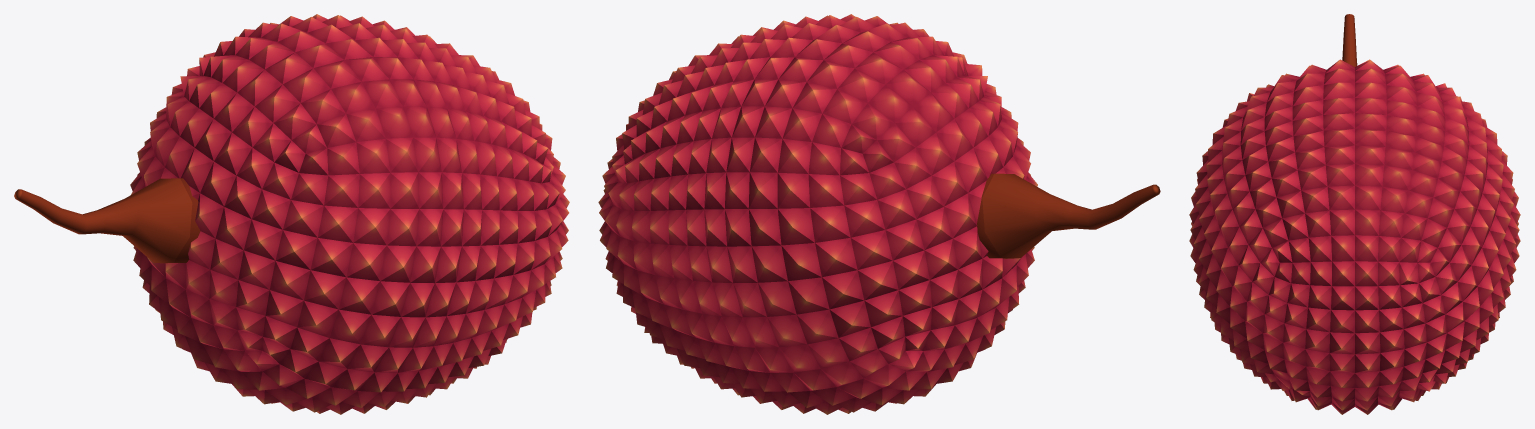
The model's file is Lychee.fbx.
3 renders of one model, left to right at view 1: azimuth 30°, elevation 25°; view 2: azimuth 150°, elevation 25°; view 3: azimuth 270°, elevation 25°, orthographic. The views are drawn at different scales.
Parts seen in each view (by area): view 1: Lychee; view 2: Lychee; view 3: Lychee.
Part boxes in pixels (<box>): Lychee: <box>14,14,569,414</box>; Lychee: <box>598,14,1160,414</box>; Lychee: <box>1189,14,1520,414</box>.
Bounding box in the file's own units: 0.3783 × 0.2456 × 0.2427.
1 material, 1 textured.
